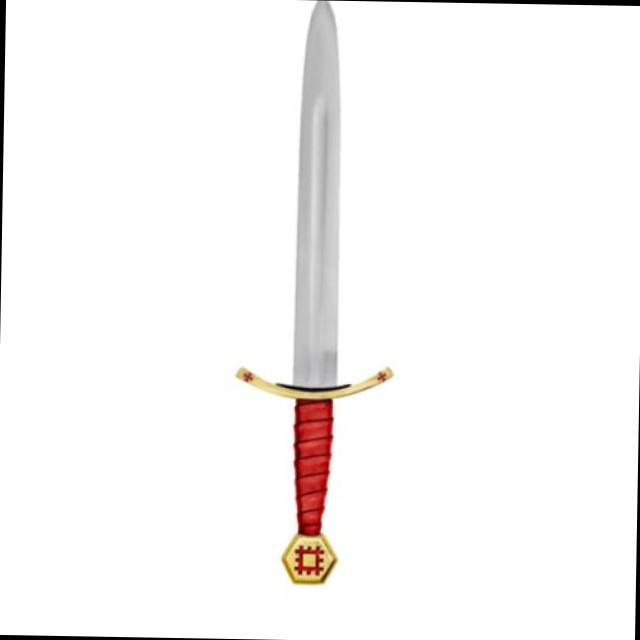Gun: (203, 0, 421, 603)
